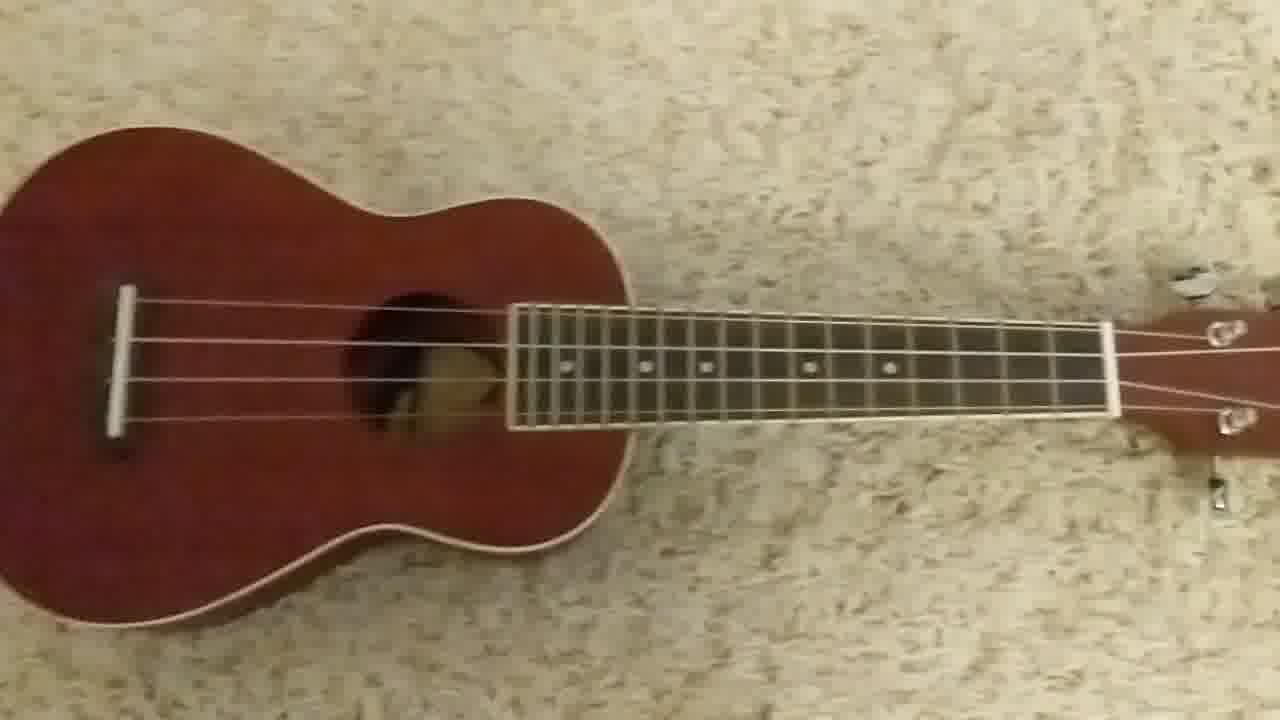Body: (1, 121, 638, 634)
Bridge: (94, 279, 149, 448)
Headstock: (1118, 261, 1280, 511)
